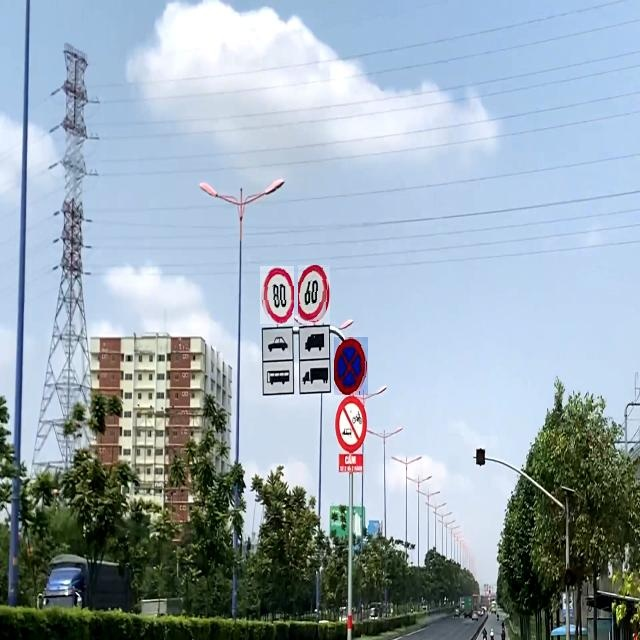bien_cam: (334, 337, 368, 395), (260, 266, 294, 324), (298, 265, 330, 323)
